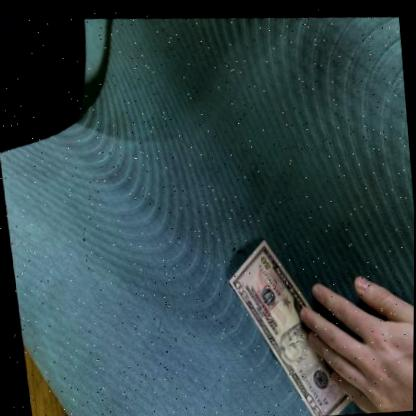fifty-front: (226, 233, 362, 415)
